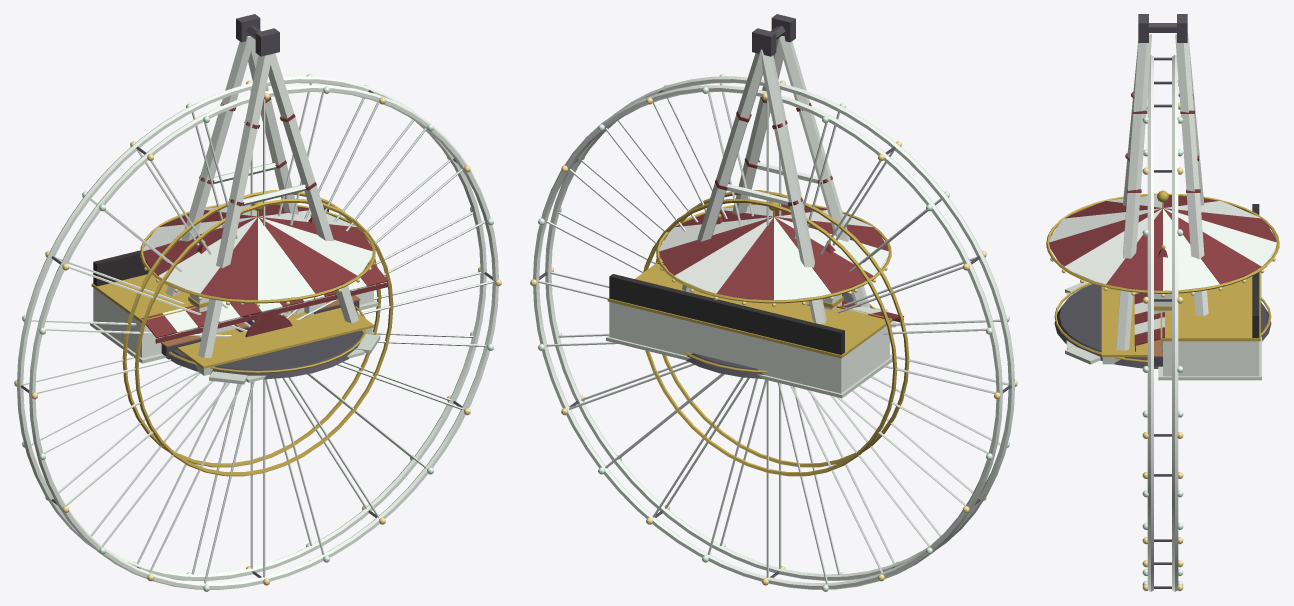
Rendered from downs-fair.glb.
3 renders of one model, left to right at view 1: azimuth 30°, elevation 25°; view 2: azimuth 150°, elevation 25°; view 3: azimuth 270°, elevation 25°, orthographic.
Parts seen in each view (by area): view 1: dn_wheel_mint, dn_wheel_frame_mint, dn_carousel_barn, dn_carousel_mint, dn_wheel_gold, dn_wheel_frame_gold, dn_carousel_base_black2, dn_ticket_hall_mint, dn_ticket_hall_barn, dn_ticket_hall_gold, dn_carousel_gold, dn_ticket_hall_black (+4 smaller); view 2: dn_wheel_mint, dn_wheel_frame_mint, dn_ticket_hall_mint, dn_carousel_mint, dn_carousel_barn, dn_ticket_hall_black, dn_wheel_gold, dn_ticket_hall_gold, dn_carousel_gold, dn_ticket_hall_mint2, dn_wheel_frame_black2, dn_carousel_base_black2 (+2 smaller); view 3: dn_wheel_frame_mint, dn_wheel_mint, dn_carousel_mint, dn_carousel_barn, dn_ticket_hall_gold, dn_ticket_hall_mint, dn_carousel_base_black2, dn_wheel_frame_gold, dn_carousel_gold, dn_wheel_frame_black2, dn_ticket_hall_mint2, dn_wheel_glowmint (+6 smaller).
Part boxes in pixels (x1,y1,x2,y2): dn_wheel_mint: [17, 76, 498, 589]; dn_wheel_frame_mint: [166, 36, 358, 357]; dn_carousel_barn: [143, 204, 372, 300]; dn_carousel_mint: [143, 204, 372, 300]; dn_wheel_gold: [122, 190, 393, 476]; dn_wheel_frame_gold: [177, 308, 374, 368]; dn_carousel_base_black2: [166, 311, 363, 379]; dn_ticket_hall_mint: [93, 277, 373, 357]; dn_ticket_hall_barn: [141, 262, 387, 343]; dn_ticket_hall_gold: [91, 259, 376, 332]; dn_carousel_gold: [140, 201, 375, 303]; dn_ticket_hall_black: [93, 207, 328, 286]; dn_wheel_mint: [533, 76, 1014, 589]; dn_wheel_frame_mint: [682, 36, 870, 323]; dn_ticket_hall_mint: [609, 302, 889, 393]; dn_carousel_mint: [659, 204, 888, 300]; dn_carousel_barn: [659, 204, 888, 300]; dn_ticket_hall_black: [609, 274, 844, 354]; dn_wheel_gold: [643, 190, 909, 476]; dn_ticket_hall_gold: [607, 262, 892, 358]; dn_carousel_gold: [656, 201, 891, 303]; dn_ticket_hall_mint2: [606, 335, 892, 398]; dn_wheel_frame_black2: [752, 14, 795, 56]; dn_carousel_base_black2: [686, 293, 854, 378]; dn_wheel_frame_mint: [1116, 33, 1208, 350]; dn_wheel_mint: [1147, 55, 1178, 591]; dn_carousel_mint: [1049, 195, 1276, 290]; dn_carousel_barn: [1049, 195, 1276, 290]; dn_ticket_hall_gold: [1160, 271, 1260, 346]; dn_ticket_hall_mint: [1134, 292, 1259, 376]; dn_carousel_base_black2: [1054, 284, 1271, 368]; dn_wheel_frame_gold: [1101, 286, 1147, 356]; dn_carousel_gold: [1046, 190, 1279, 293]; dn_wheel_frame_black2: [1138, 14, 1187, 42]; dn_ticket_hall_mint2: [1158, 273, 1261, 380]; dn_wheel_glowmint: [1142, 116, 1183, 585].
Bounding box in the file's own units: 44.6 × 50.2 × 19.38.
